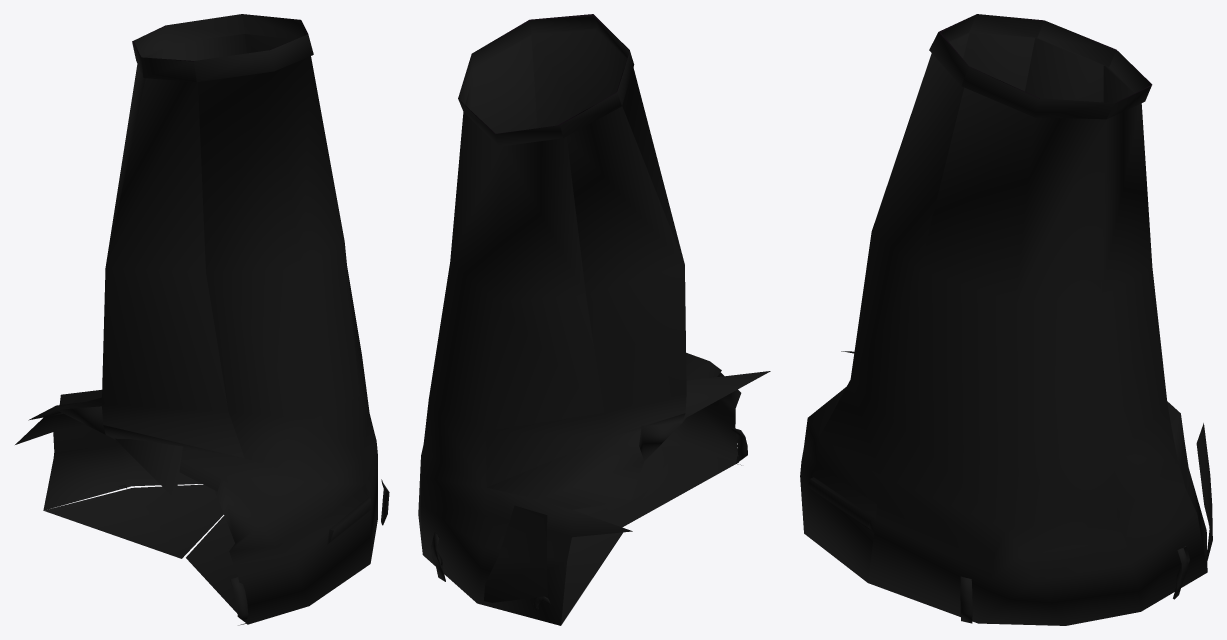
Rendered from right_up_leg.glb.
The picture shows the model from 3 angles, left to right: view 1: azimuth 30°, elevation 25°; view 2: azimuth 150°, elevation 25°; view 3: azimuth 270°, elevation 25°; orthographic projection. The views are drawn at different scales.
Parts seen in each view (by area): view 1: shorts-black_RIGHT_UP_LEG; view 2: shorts-black_RIGHT_UP_LEG; view 3: shorts-black_RIGHT_UP_LEG.
Boxes of the visible parts, bbox=[...] form: shorts-black_RIGHT_UP_LEG: bbox=[15, 14, 389, 625]; shorts-black_RIGHT_UP_LEG: bbox=[418, 14, 770, 625]; shorts-black_RIGHT_UP_LEG: bbox=[800, 14, 1212, 625].
Size of the model in its own units: 0.2712 by 0.484 by 0.3312.
1 material, 1 textured.
